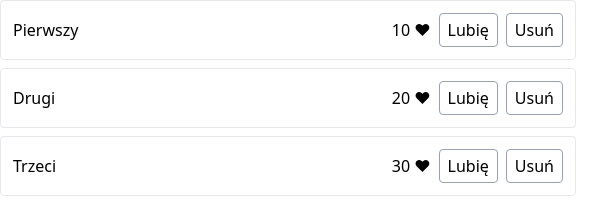
Test: PostList › increments the counter BEFORE the server responds
The width and height of the screenshot is (593, 213).
Expected: the text "Pierwszy" is shown, [13,18,78,42]
Click the button with aria-label "Polub: Pierwszy" at (468, 30), box [439,13,498,47]
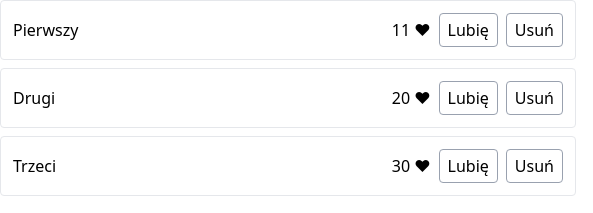
Expected: the text with test id "likes-1" shows "11", [392,19,410,41]
